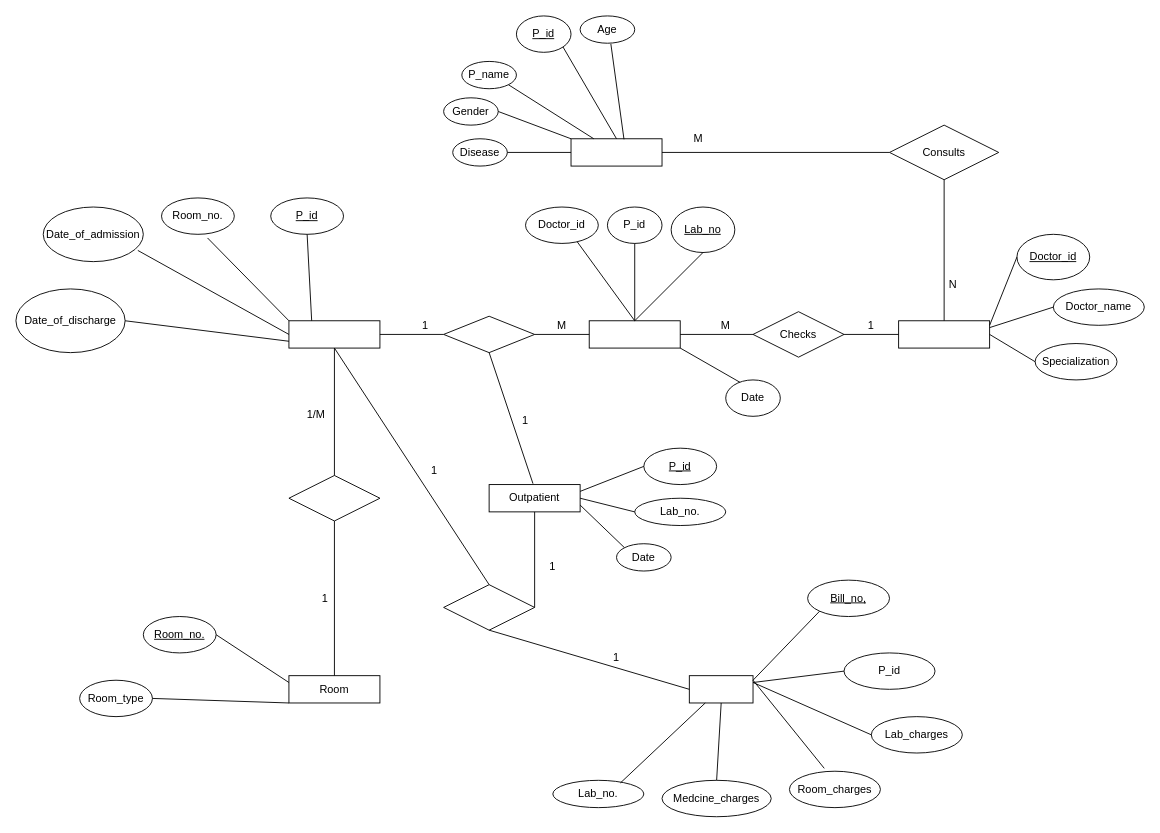
Some shapes in this 1160 by 833 pixel diagram are drawn without their labels. The shapes that lost their labels are listed below. From the top down, each one's centre as x and y in pixels, then its label:
At point (616, 152): "Patient".
At point (334, 334): "Inpatient".
At point (489, 334): "Decides".
At point (634, 334): "Lab_Report".
At point (944, 334): "Doctor".
At point (334, 498): "Admitted_to".
At point (489, 607): "Issued_to".
At point (720, 689): "Bill".
